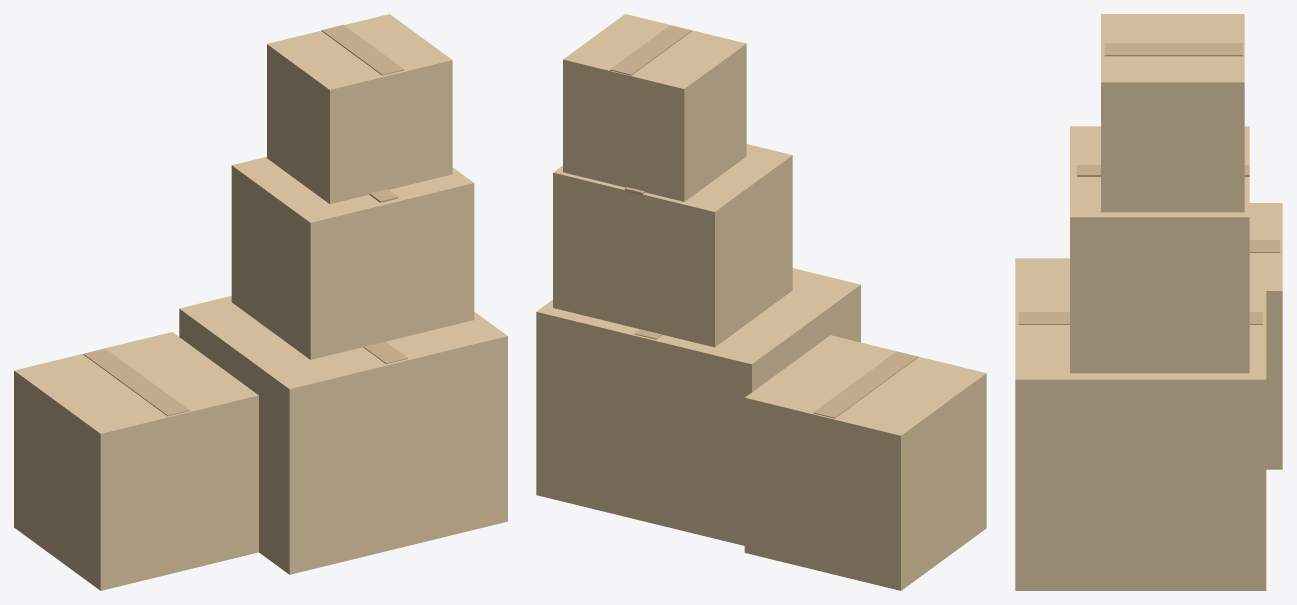
File: 02_cardboard_boxes_4.glb
3 views of the same model, side by side, from view 1: azimuth 30°, elevation 25°; view 2: azimuth 150°, elevation 25°; view 3: azimuth 270°, elevation 25° (orthographic). The views are drawn at different scales.
Visible parts, largest first — view 1: part_1, part_3, part_5, part_7, part_4, part_8; view 2: part_3, part_1, part_5, part_7, part_4, part_8; view 3: part_1, part_5, part_7, part_3, part_8, part_2, part_4, part_6.
Part boxes in pixels (x1,y1,x2,y2): part_1: (179, 296, 507, 574); part_3: (14, 332, 258, 590); part_5: (231, 156, 474, 359); part_7: (267, 14, 452, 203); part_4: (83, 348, 189, 416); part_8: (321, 25, 404, 75); part_3: (744, 335, 986, 590); part_1: (536, 268, 860, 545); part_5: (553, 144, 792, 347); part_7: (563, 14, 746, 201); part_4: (813, 351, 918, 418); part_8: (610, 25, 691, 75); part_1: (1015, 258, 1266, 590); part_5: (1070, 126, 1249, 373); part_7: (1101, 14, 1244, 212); part_3: (1249, 203, 1282, 469); part_8: (1104, 43, 1243, 56); part_2: (1018, 312, 1262, 324); part_4: (1249, 240, 1280, 252); part_6: (1077, 165, 1249, 176).
Bounding box in the file's own units: 1.38 × 1.54 × 0.745.
